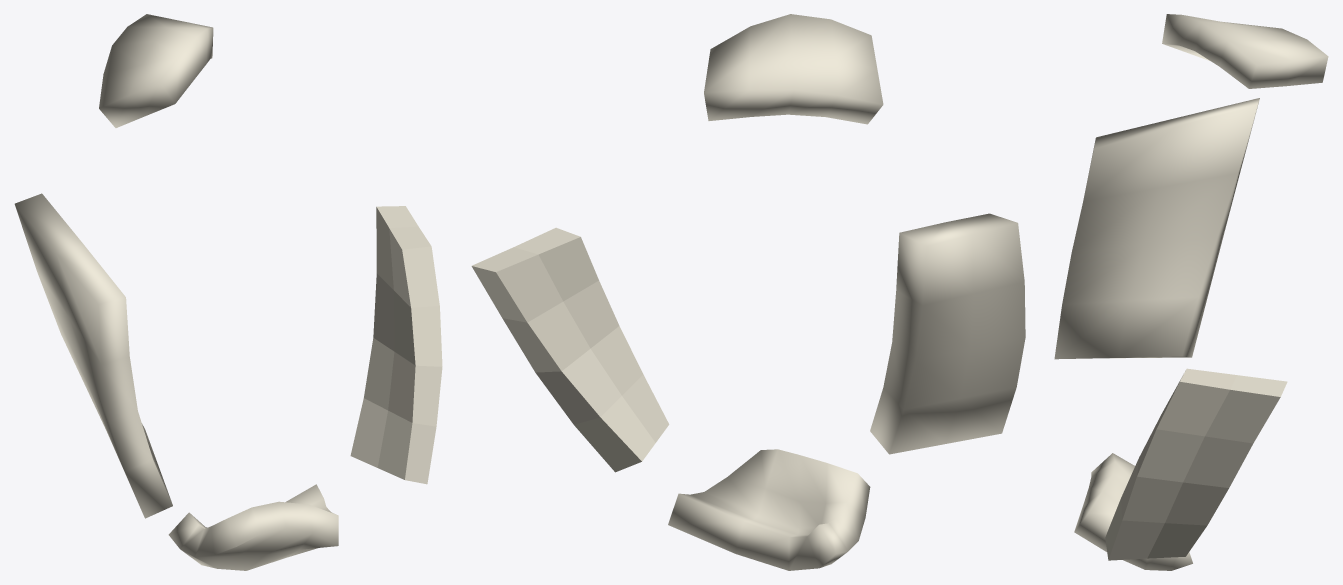
3 views of the same model, side by side, from view 1: azimuth 30°, elevation 25°; view 2: azimuth 150°, elevation 25°; view 3: azimuth 270°, elevation 25° (orthographic). The views are drawn at different scales.
Visible parts, largest first — view 1: ZA_1ec9e3087245695b; view 2: ZA_1ec9e3087245695b; view 3: ZA_1ec9e3087245695b.
Boxes of the visible parts, box(x1,y1,x2,y2) form: ZA_1ec9e3087245695b: box(14, 14, 442, 570); ZA_1ec9e3087245695b: box(471, 14, 1025, 570); ZA_1ec9e3087245695b: box(1054, 14, 1328, 570).
Bounding box in the file's own units: 0.00754 × 0.00928 × 0.00451.
